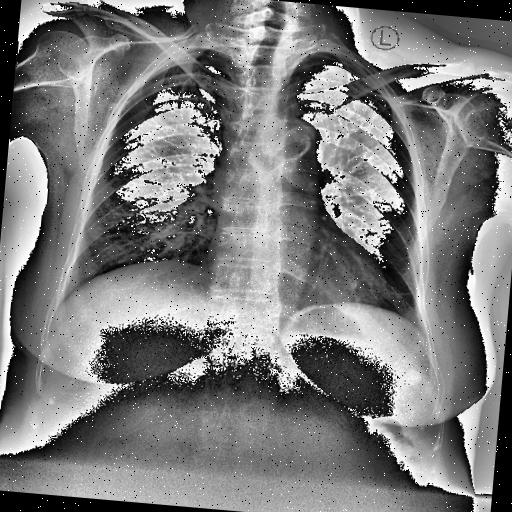0- Aortic enlargement: (265, 109, 345, 172)
2- Calcification: (278, 122, 318, 168), (278, 126, 319, 164)
